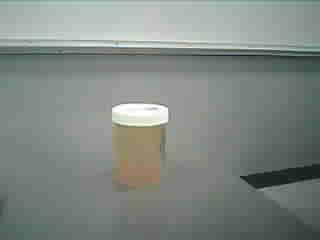Bottle B: (102, 97, 180, 198)
